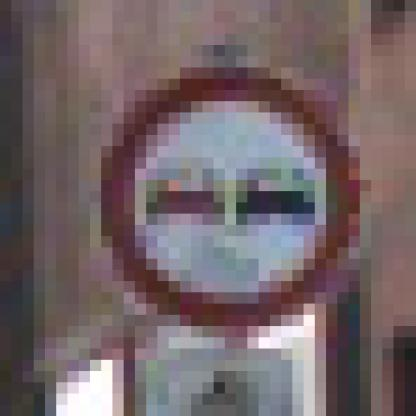No Overtaking: (68, 57, 361, 350)
